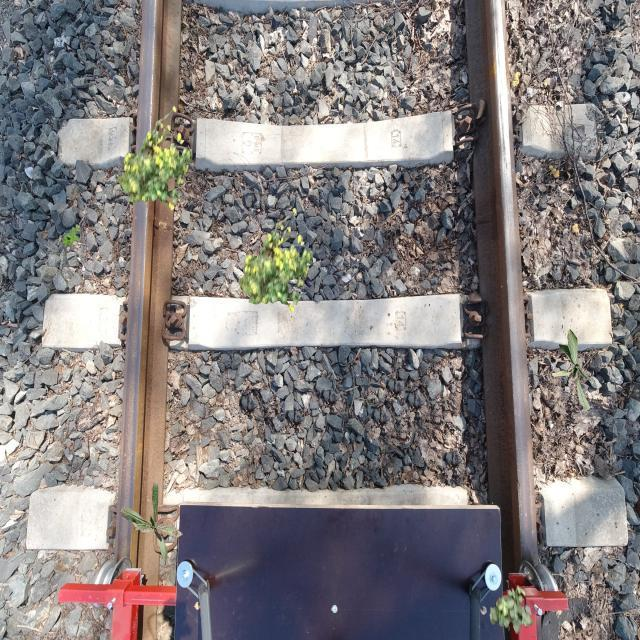Plant: (238, 208, 313, 313), (118, 106, 193, 211), (120, 482, 184, 566), (552, 329, 592, 412), (489, 585, 532, 635), (62, 224, 82, 248)
